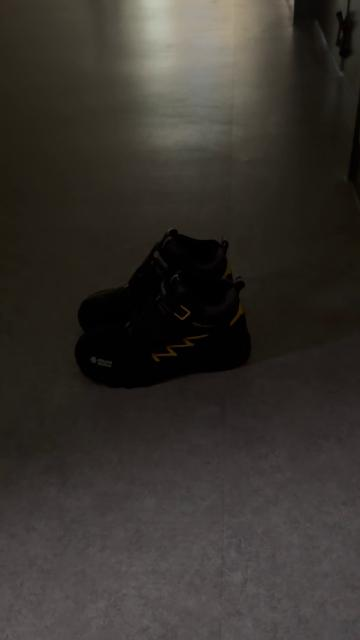shoe_worn: (73, 273, 251, 391), (76, 228, 232, 329)
